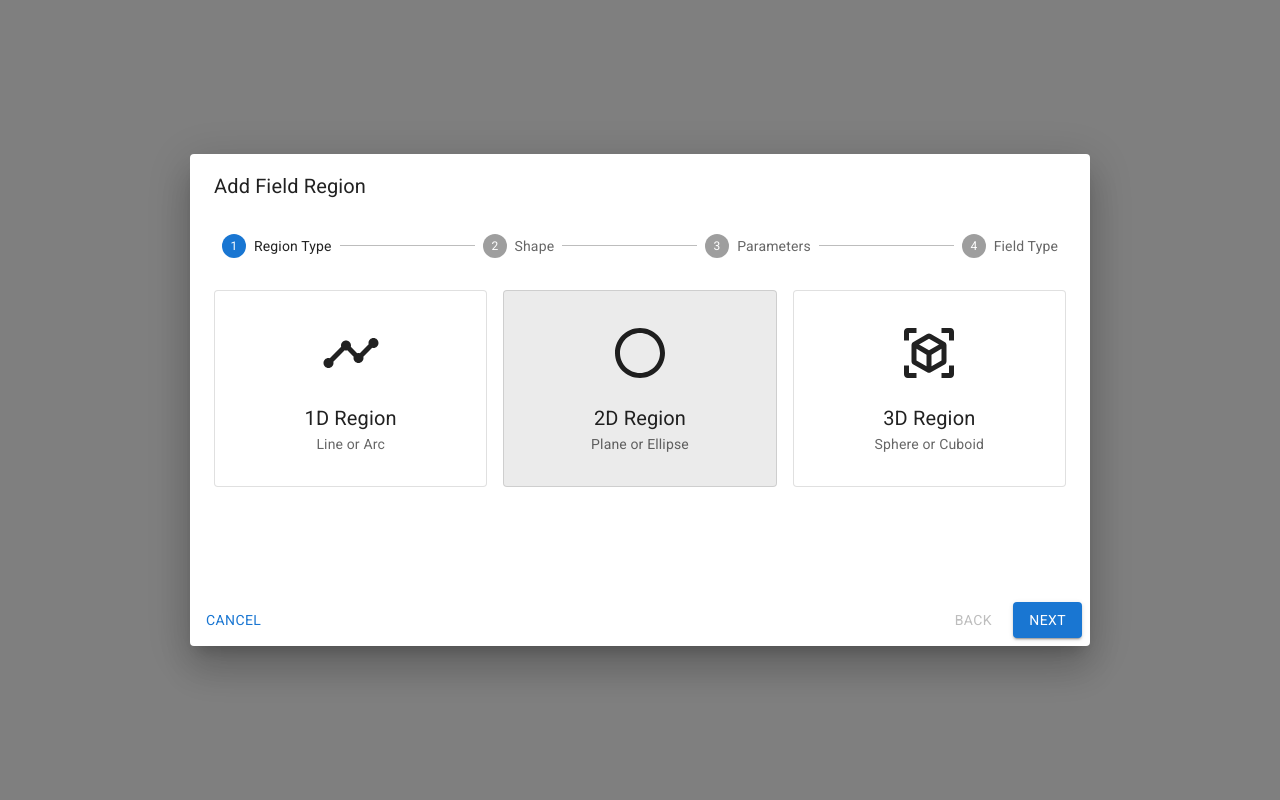
Scenario: AddFieldDialog - T4.B1.2 › Step Navigation › allows moving to next step
The image size is (1280, 800).
Click the button "Next": click(1048, 620) top-left (1013, 602), bottom-right (1082, 638)
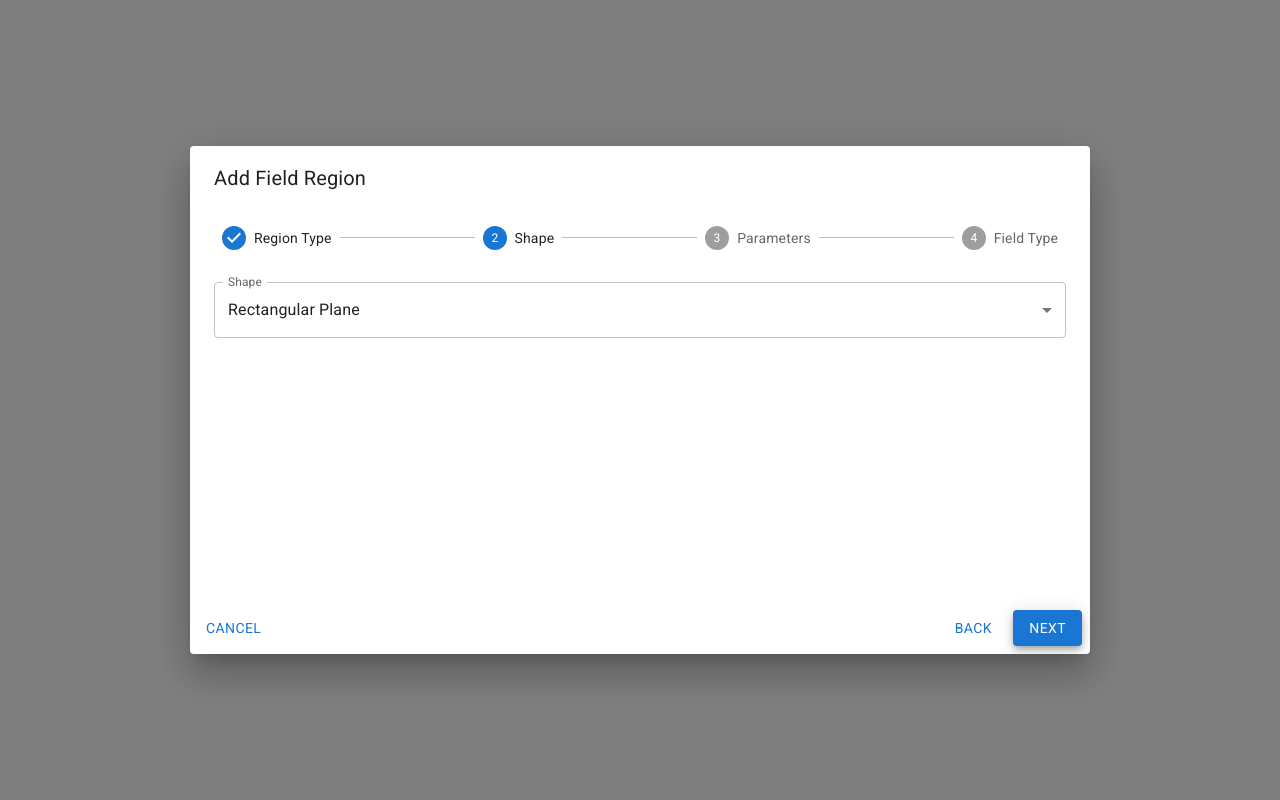
Result: the dropdown named "Shape" is shown at top-left (228, 300), bottom-right (360, 319)
